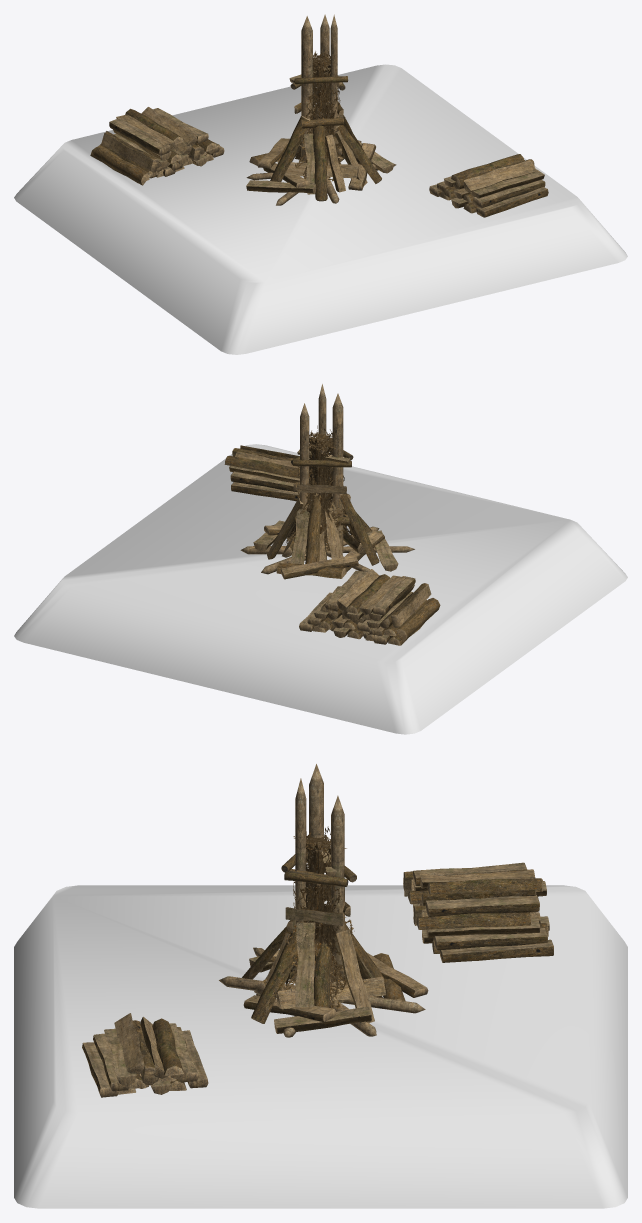
File: CoalerPile_Construction_Stage1.fbx
3 renders of one model, top to bottom at view 1: azimuth 30°, elevation 25°; view 2: azimuth 150°, elevation 25°; view 3: azimuth 270°, elevation 25°, orthographic. The views are drawn at different scales.
Parts seen in each view (by area): view 1: CoalerPile_Base_Construction_Stage1, CoalerPile_Construction_Stage1, CoalerPile_ConstructionWood2_Stage1, CoalerPile_ConstructionWood1_Stage1; view 2: CoalerPile_Base_Construction_Stage1, CoalerPile_Construction_Stage1, CoalerPile_ConstructionWood2_Stage1, CoalerPile_ConstructionWood1_Stage1; view 3: CoalerPile_Base_Construction_Stage1, CoalerPile_Construction_Stage1, CoalerPile_ConstructionWood2_Stage1, CoalerPile_ConstructionWood1_Stage1.
Part boxes in pixels (box(x1,y1,x2,y2)): CoalerPile_Base_Construction_Stage1: box(14, 64, 627, 354); CoalerPile_Construction_Stage1: box(246, 14, 396, 205); CoalerPile_ConstructionWood2_Stage1: box(90, 107, 224, 185); CoalerPile_ConstructionWood1_Stage1: box(429, 154, 548, 217); CoalerPile_Base_Construction_Stage1: box(14, 444, 627, 734); CoalerPile_Construction_Stage1: box(240, 384, 414, 579); CoalerPile_ConstructionWood2_Stage1: box(299, 569, 440, 645); CoalerPile_ConstructionWood1_Stage1: box(224, 445, 326, 501); CoalerPile_Base_Construction_Stage1: box(14, 885, 627, 1208); CoalerPile_Construction_Stage1: box(219, 764, 428, 1037); CoalerPile_ConstructionWood2_Stage1: box(403, 862, 553, 962); CoalerPile_ConstructionWood1_Stage1: box(82, 1013, 208, 1097).
Bounding box in the file's own units: 796 × 407 × 758.
